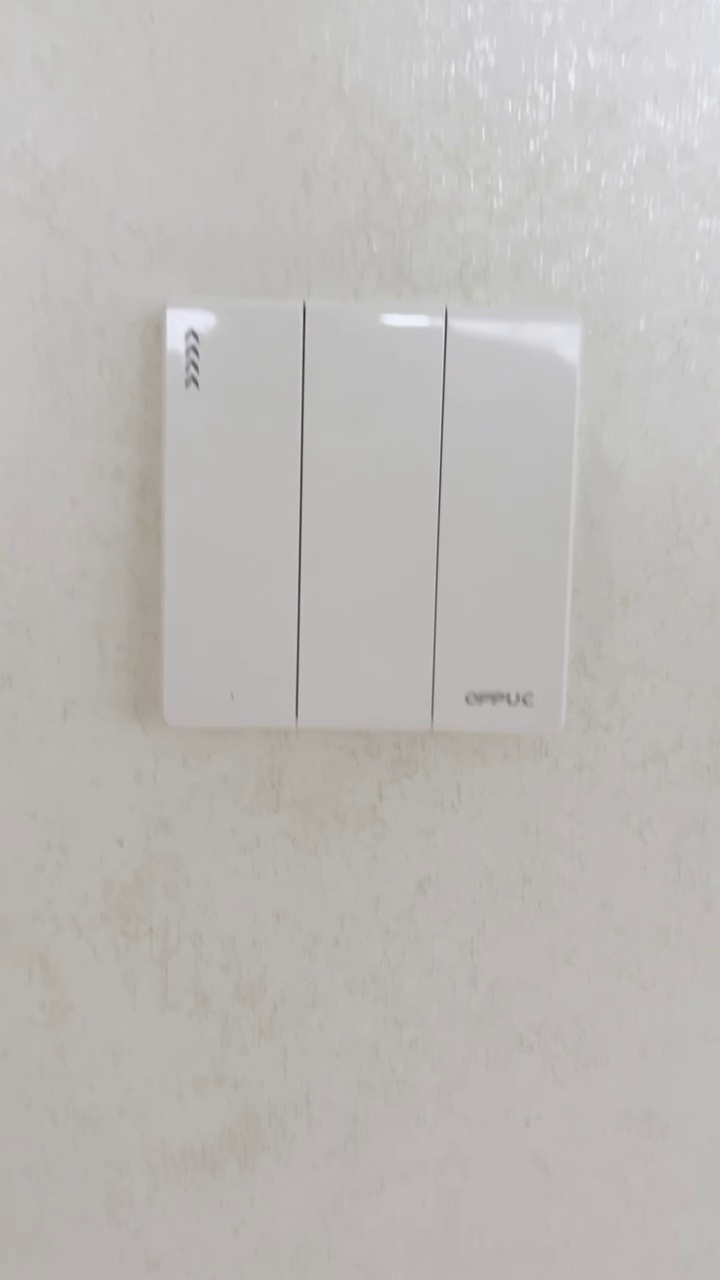button1: (302, 305, 437, 726), (440, 314, 571, 732), (168, 310, 299, 725)
